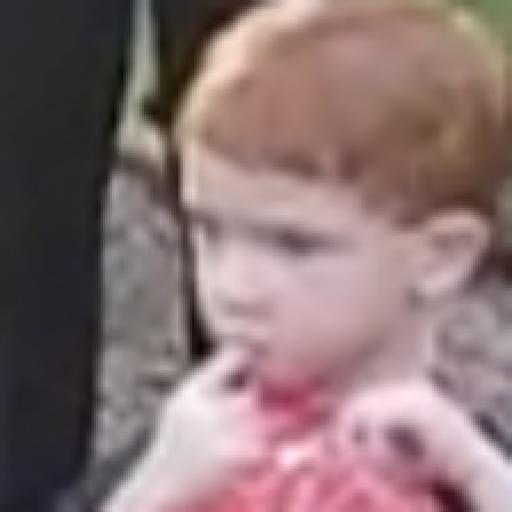Autism: (170, 17, 512, 452)
